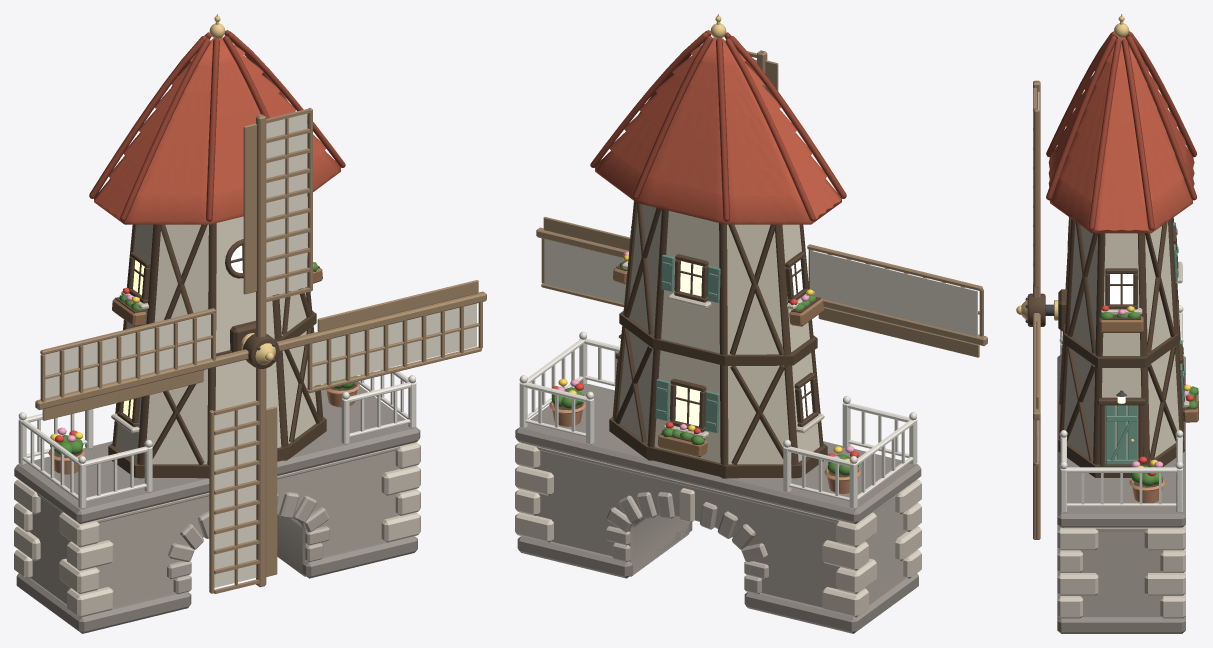
The model's file is windmill.glb.
3 views of the same model, side by side, from view 1: azimuth 30°, elevation 25°; view 2: azimuth 150°, elevation 25°; view 3: azimuth 270°, elevation 25° (orthographic). The views are drawn at different scales.
Visible parts, largest first — view 1: windmill, blades; view 2: windmill, blades; view 3: windmill, blades.
Boxes of the visible parts, x1,y1,x2,y2 form: windmill: (14, 14, 420, 633); blades: (35, 107, 486, 593); windmill: (515, 14, 921, 633); blades: (536, 50, 987, 357); windmill: (1046, 14, 1198, 633); blades: (1016, 80, 1053, 539).
Bounding box in the file's own units: 1.96 × 2.32 × 0.7101.
